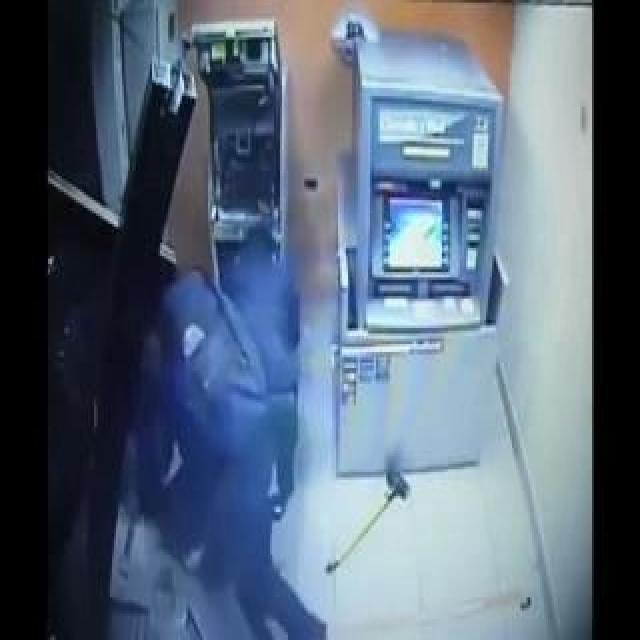thief: (144, 195, 254, 406)
